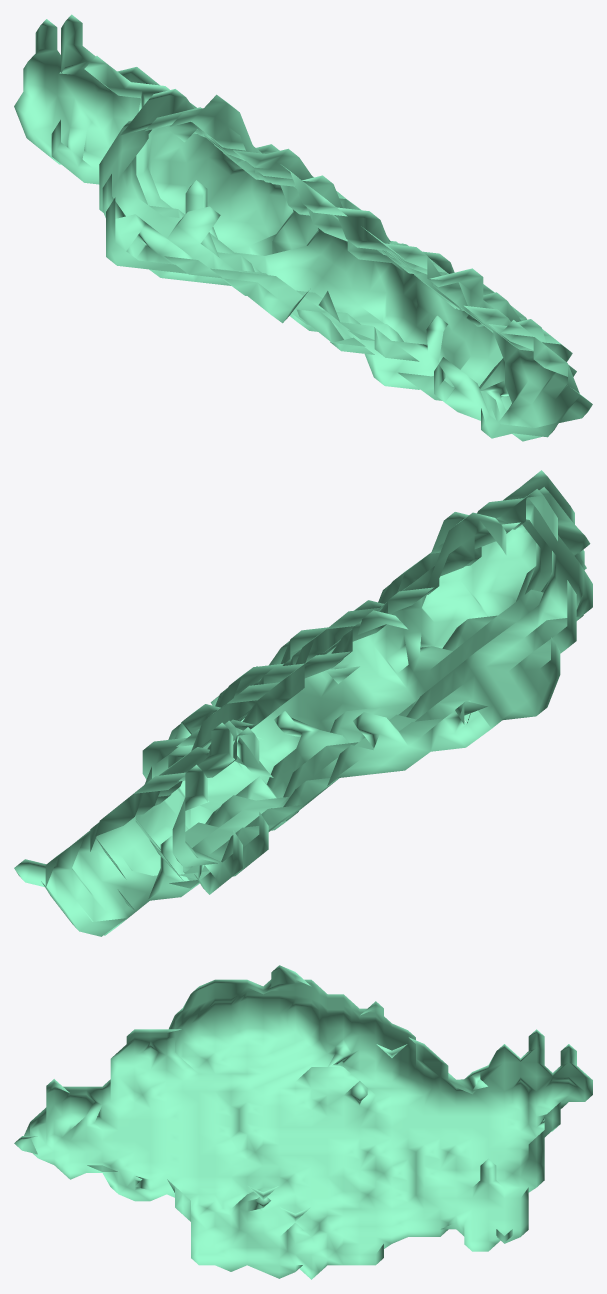
The model's file is osteocyte_62.glb.
3 renders of one model, top to bottom at view 1: azimuth 30°, elevation 25°; view 2: azimuth 150°, elevation 25°; view 3: azimuth 270°, elevation 25°, orthographic. The views are drawn at different scales.
Visible parts, largest first — view 1: osteocyte_62; view 2: osteocyte_62; view 3: osteocyte_62.
Part boxes in pixels (left/top/right/bottom): osteocyte_62: left=14, top=14, right=592, bottom=441; osteocyte_62: left=14, top=470, right=592, bottom=936; osteocyte_62: left=14, top=965, right=592, bottom=1279.
Size of the model in its own units: 8.67 by 7.7 by 17.33.
